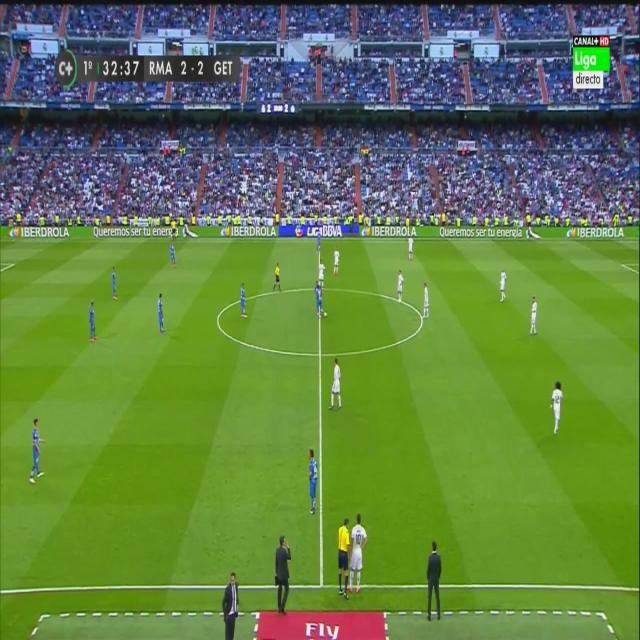Ball: (322, 309, 329, 320)
Player: (348, 512, 370, 593), (28, 417, 46, 487), (306, 445, 320, 519), (550, 380, 566, 437), (328, 354, 343, 412), (156, 289, 167, 336), (528, 294, 540, 336), (88, 298, 98, 346), (239, 279, 249, 321), (421, 280, 431, 322), (314, 282, 324, 320), (498, 266, 508, 304), (111, 263, 120, 303), (396, 266, 405, 306), (317, 256, 326, 289), (332, 244, 341, 277), (169, 240, 176, 272), (407, 234, 414, 262), (316, 232, 322, 256)
Referee: (335, 516, 353, 598), (271, 260, 283, 296), (171, 219, 177, 244)
